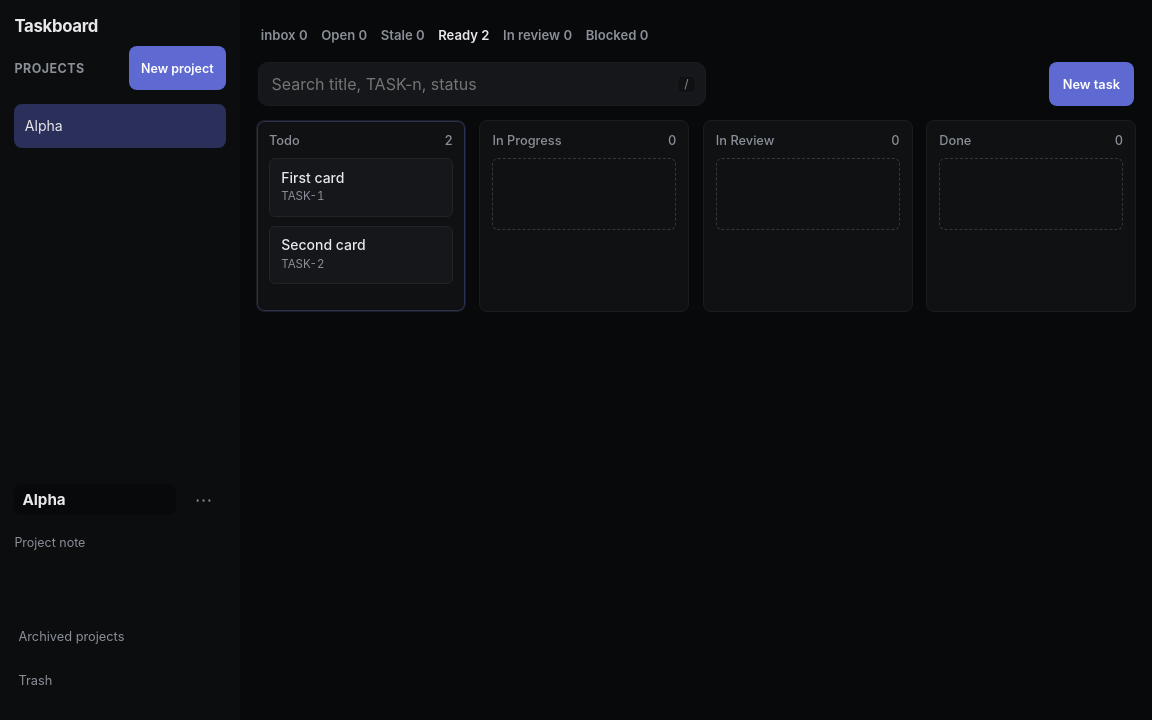
design-review regressions › swaps inspector content when a second card is clicked
Click the list item "First card TASK-1" at coordinates (361, 188), box [269,158,453,217]
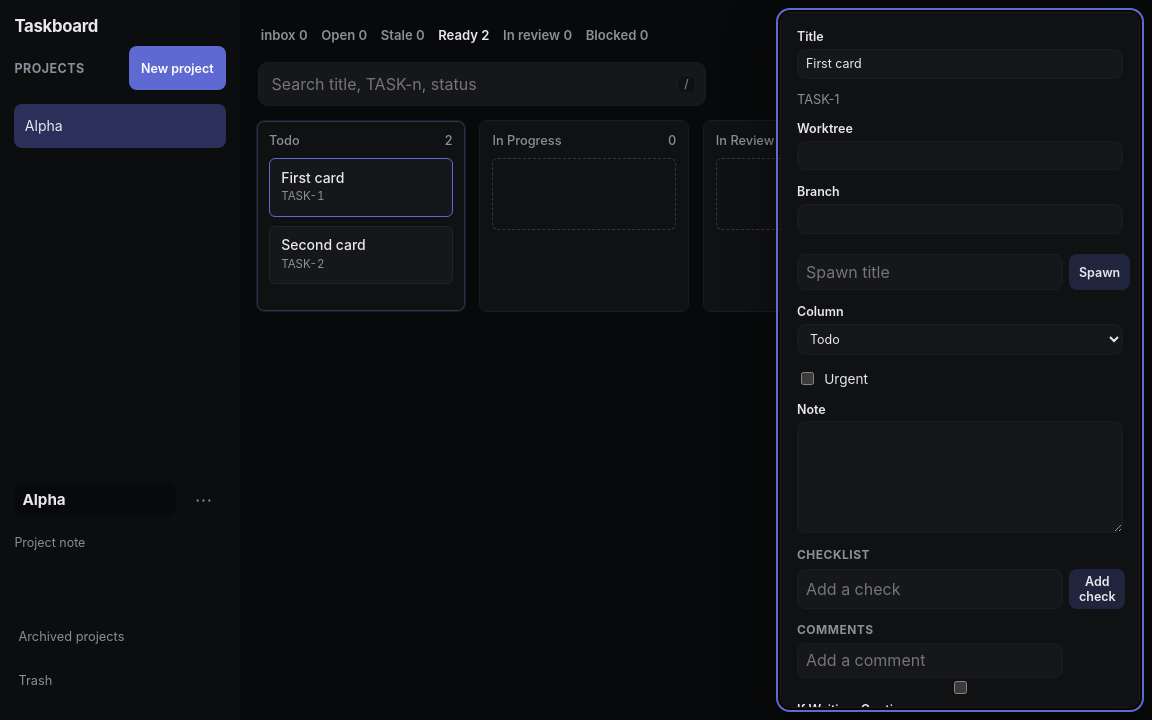
Expected: the field labelled "Title" holds "First card", [797,49,1123,79]
Expected: the element named "Task details" shows "TASK-1", [797,92,1123,107]
Click the list item "Second card TASK-2" at coordinates (361, 255), box [269,226,453,284]
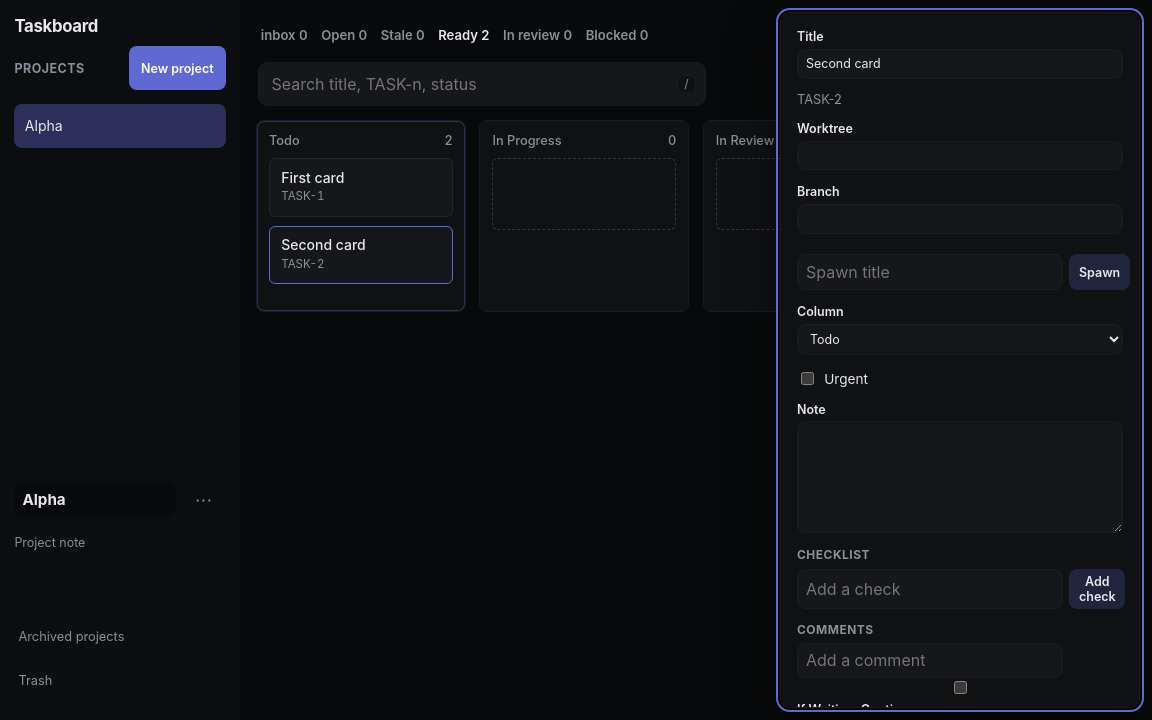
Expected: the field labelled "Title" holds "Second card", [797,49,1123,79]
Expected: the element named "Task details" shows "TASK-2", [797,92,1123,107]
